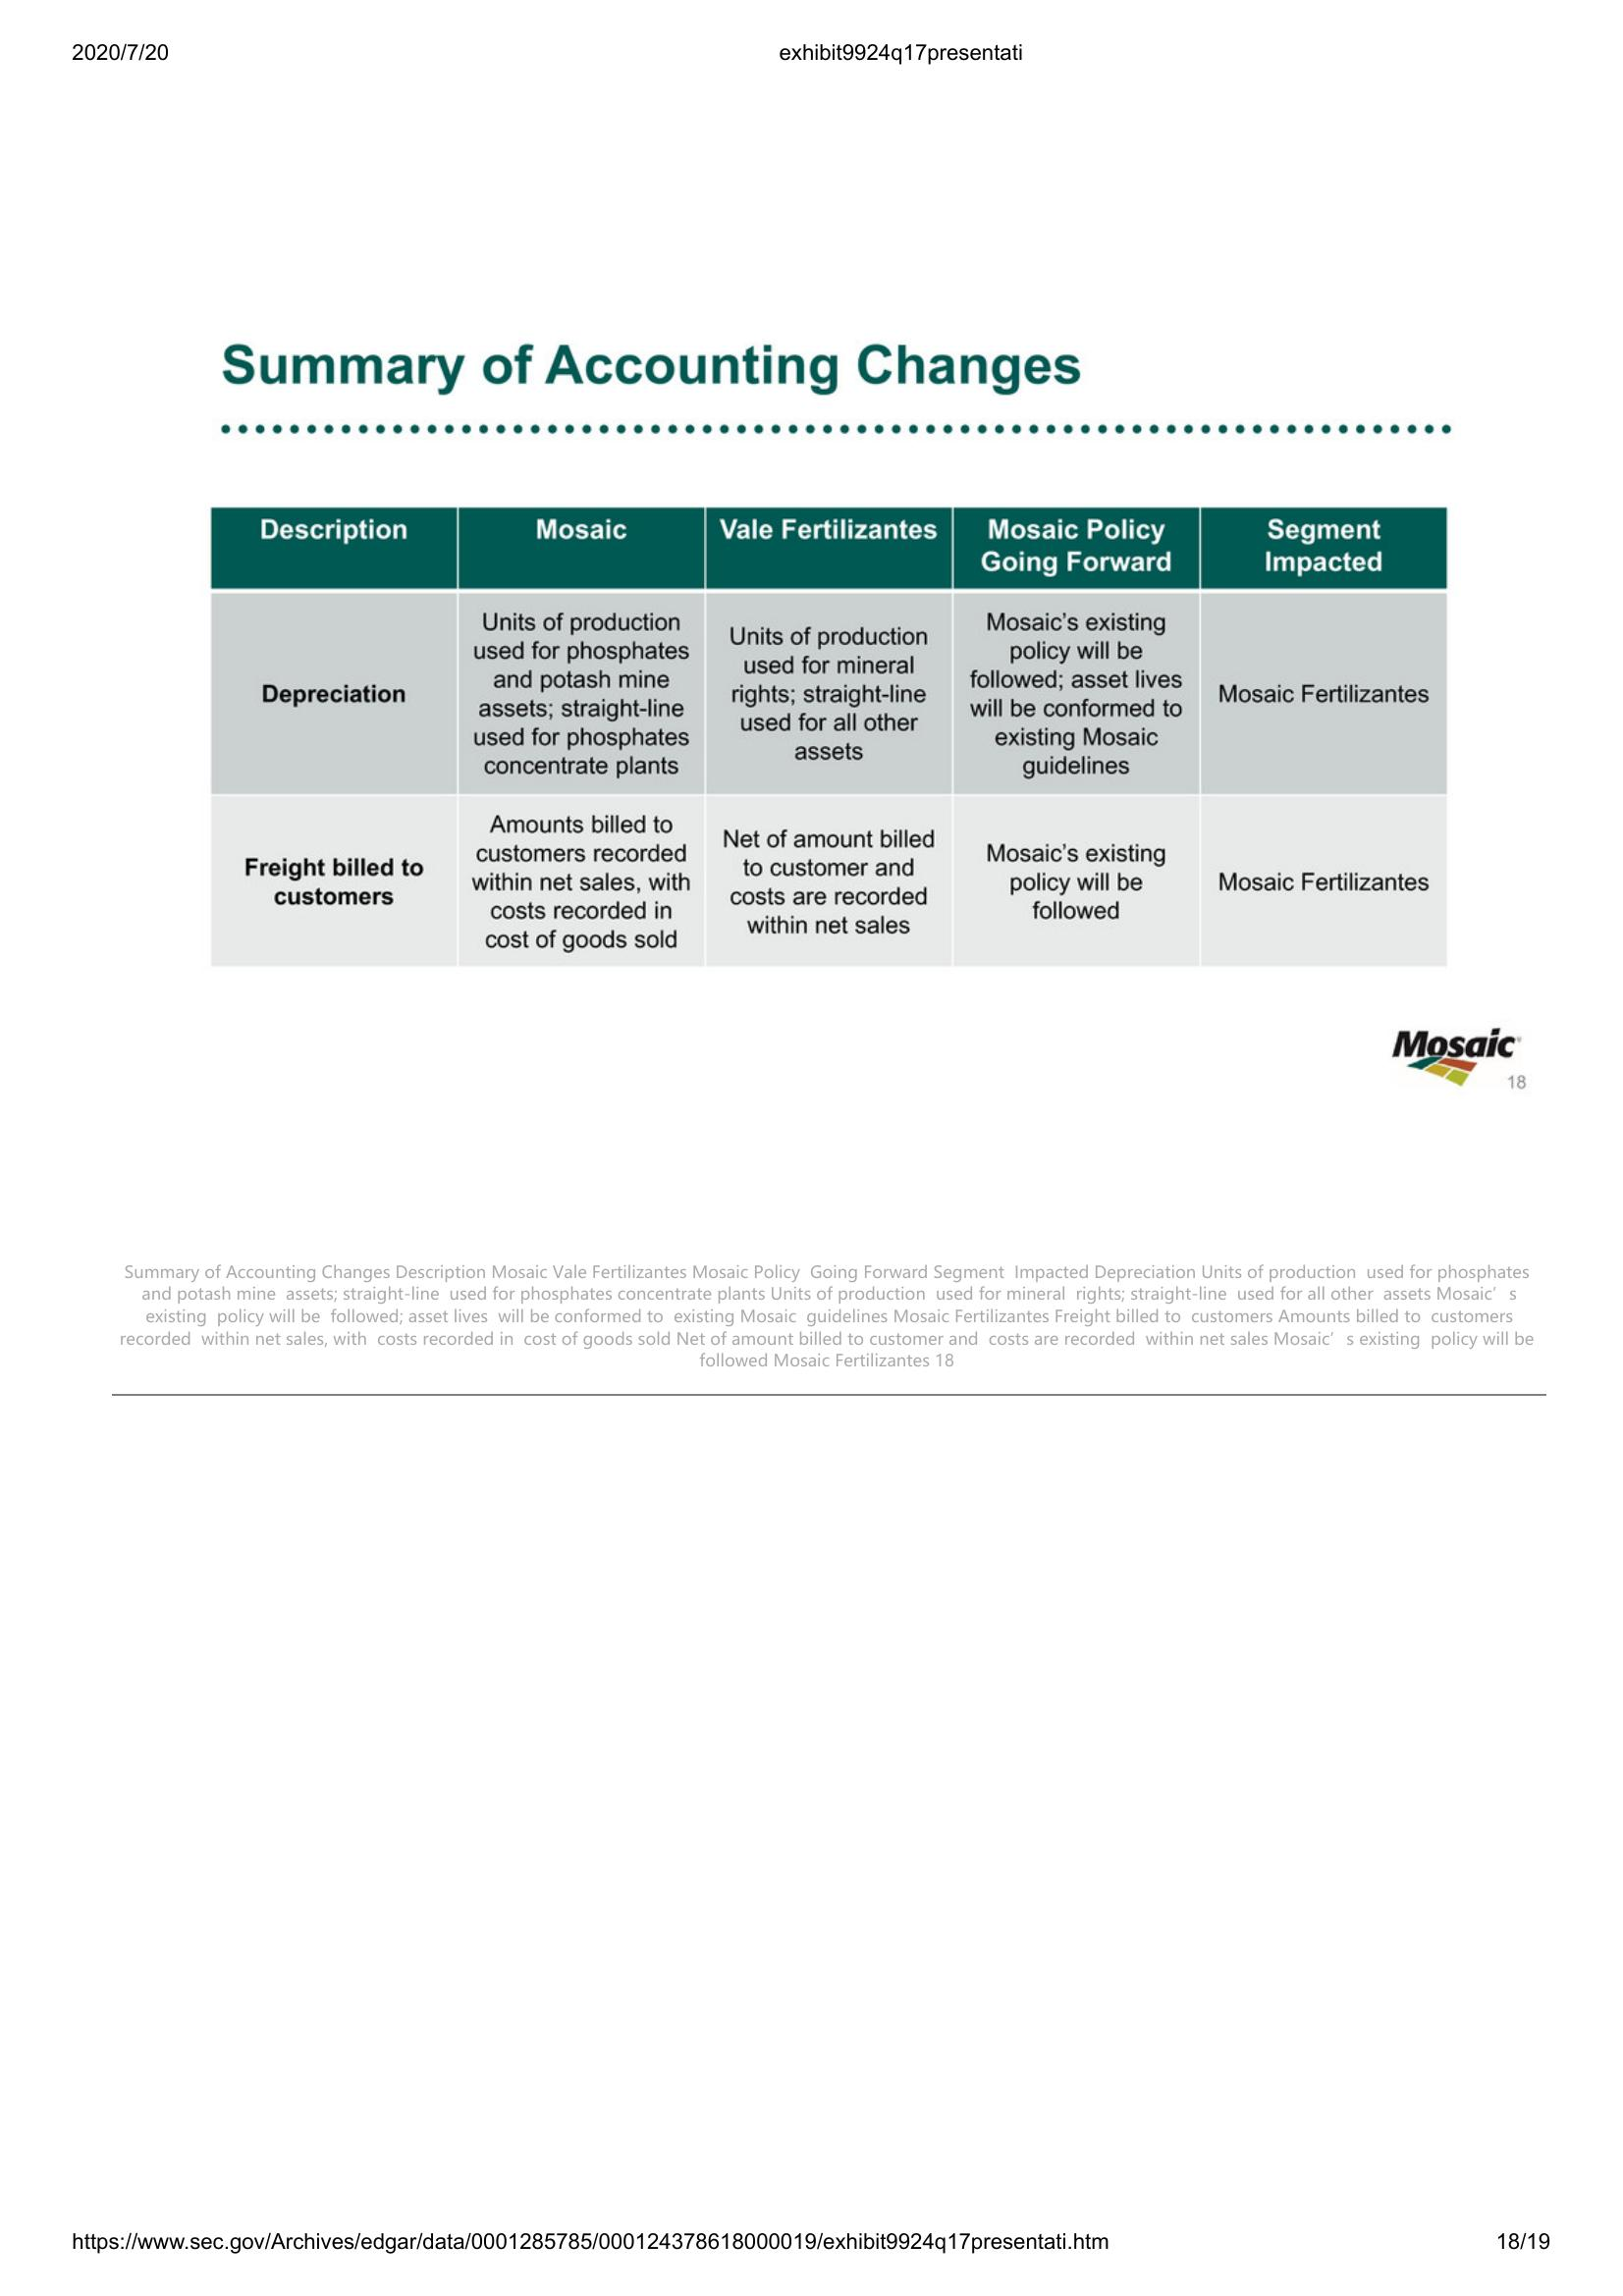table: (198, 500, 1460, 974)
